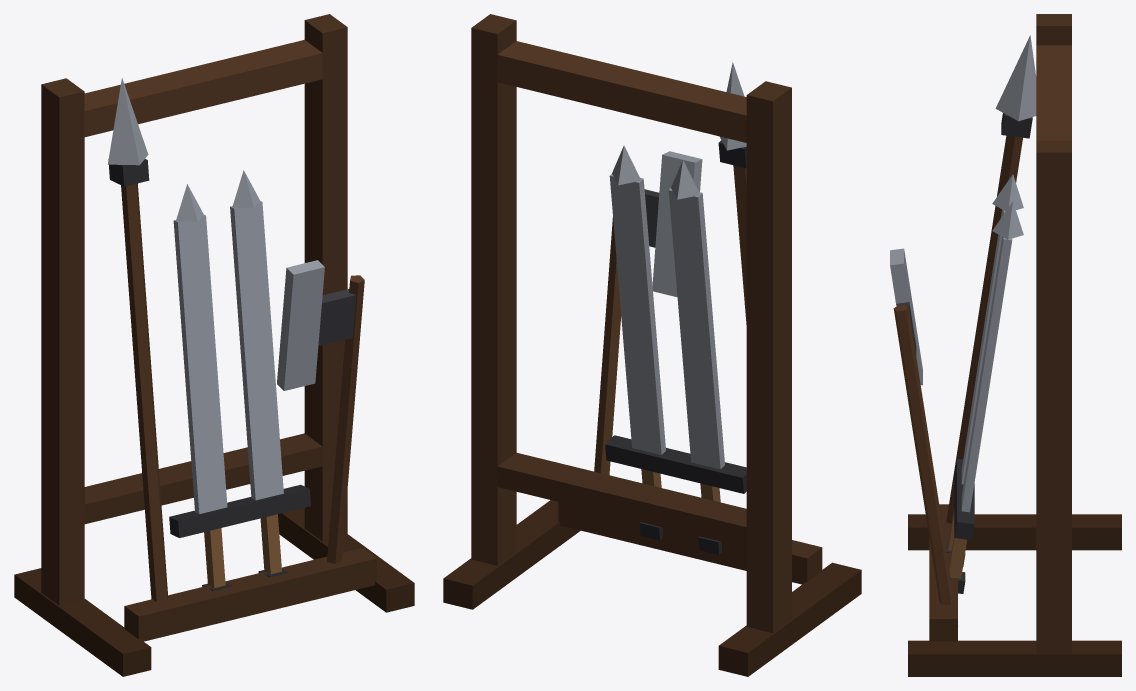
The model's file is weapon_rack.glb.
3 renders of one model, left to right at view 1: azimuth 30°, elevation 25°; view 2: azimuth 150°, elevation 25°; view 3: azimuth 270°, elevation 25°, orthographic. The views are drawn at different scales.
Visible parts, largest first — view 1: weapon_rack; view 2: weapon_rack; view 3: weapon_rack.
Part boxes in pixels (<box>): weapon_rack: <box>14,14,414,676</box>; weapon_rack: <box>443,14,861,676</box>; weapon_rack: <box>890,14,1121,676</box>.
Size of the model in its own units: 0.93 by 1.64 by 0.6505.
